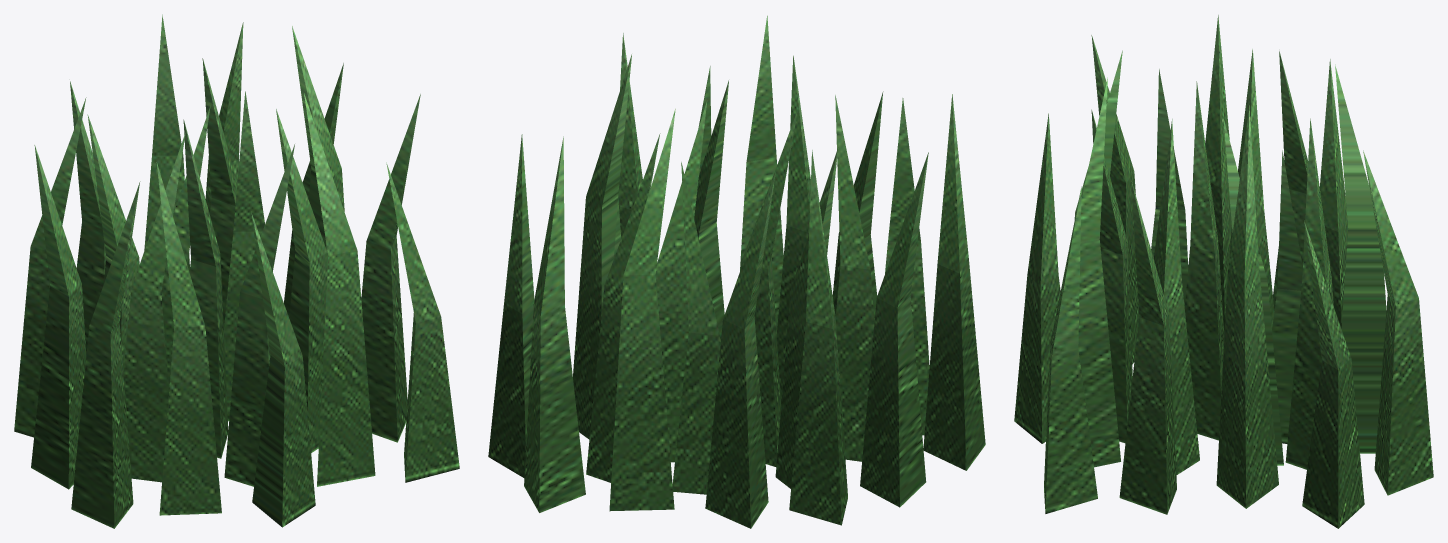
The model's file is Grass.glb.
3 views of the same model, side by side, from view 1: azimuth 30°, elevation 25°; view 2: azimuth 150°, elevation 25°; view 3: azimuth 270°, elevation 25° (orthographic). The views are drawn at different scales.
Visible parts, largest first — view 1: Grass; view 2: Grass; view 3: Grass.
Boxes of the visible parts, left/top/right/bottom form: Grass: left=14, top=14, right=459, bottom=528; Grass: left=488, top=15, right=985, bottom=528; Grass: left=1014, top=15, right=1433, bottom=528.
Size of the model in its own units: 72.99 by 72.7 by 73.12.
1 material, 1 textured.
